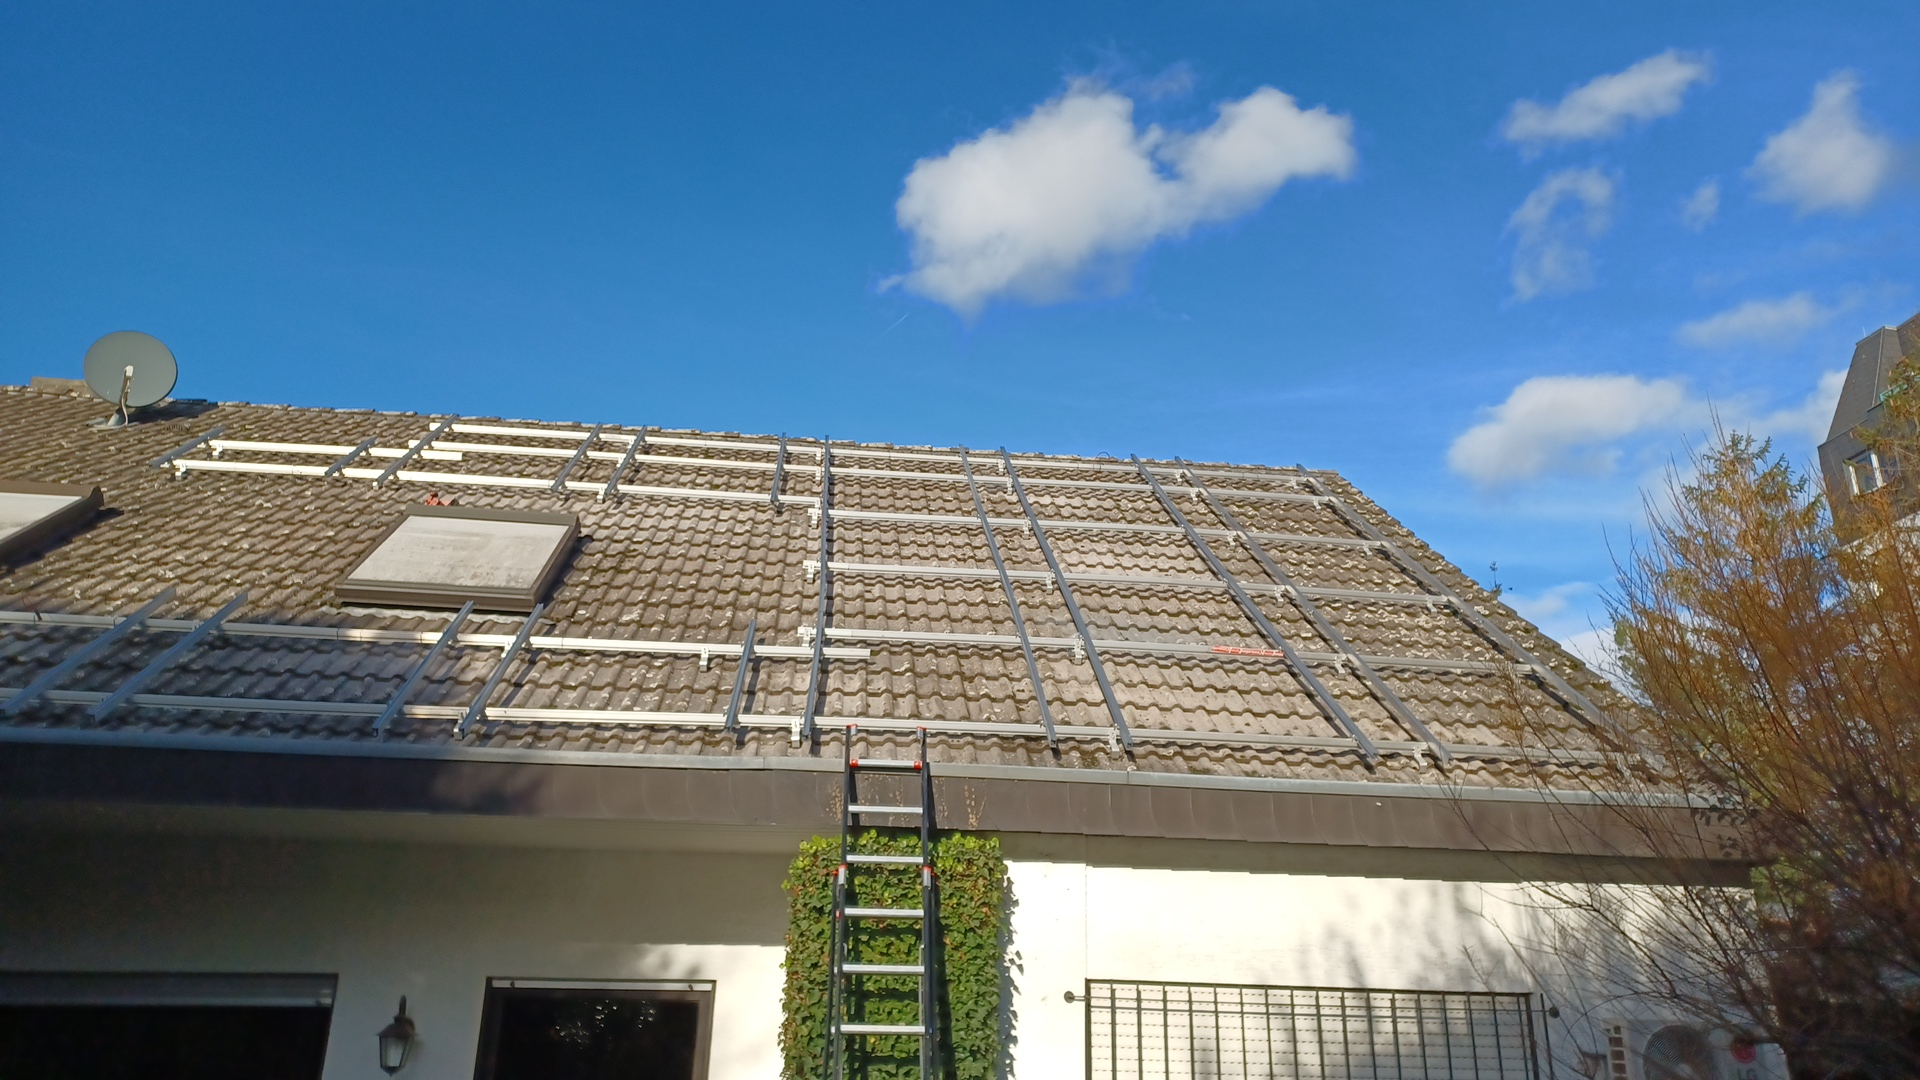hook: (1615, 756, 1633, 783), (1414, 744, 1427, 773), (454, 711, 465, 741), (1109, 728, 1120, 760), (1335, 654, 1345, 679), (699, 646, 708, 673), (791, 720, 800, 746), (1425, 596, 1437, 616), (1073, 640, 1083, 665), (1274, 585, 1284, 607), (175, 462, 187, 479), (501, 640, 512, 658), (1226, 531, 1236, 549), (1046, 574, 1054, 593), (212, 444, 223, 458), (807, 562, 814, 583), (1313, 497, 1321, 514), (1364, 543, 1371, 560), (802, 630, 810, 647), (1189, 489, 1197, 505), (1291, 477, 1299, 493), (597, 485, 604, 502), (815, 448, 822, 464), (815, 468, 822, 484), (811, 512, 818, 527), (1175, 469, 1182, 485), (99, 694, 109, 703), (1023, 521, 1029, 538), (191, 622, 200, 632), (616, 456, 622, 468), (626, 438, 633, 450), (814, 498, 820, 509), (1007, 479, 1011, 495), (1000, 460, 1004, 475)
